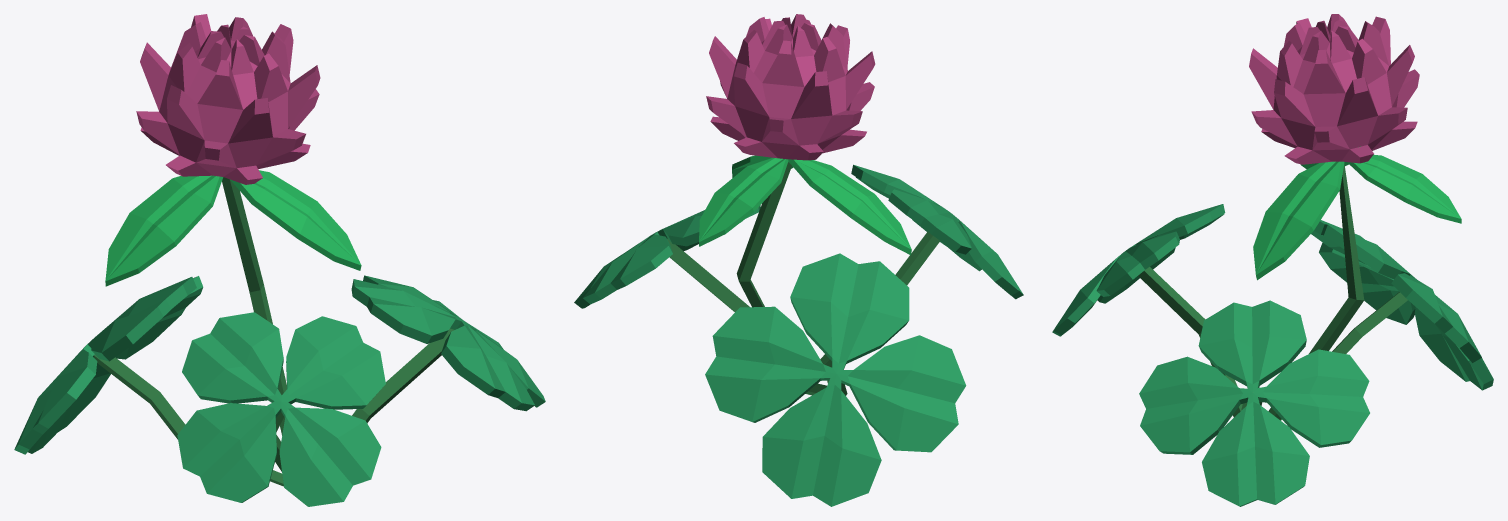
The model's file is 3D_Model_Clover_LP_v3.fbx.
The picture shows the model from 3 angles, left to right: view 1: azimuth 30°, elevation 25°; view 2: azimuth 150°, elevation 25°; view 3: azimuth 270°, elevation 25°; orthographic projection. The views are drawn at different scales.
Parts seen in each view (by area): view 1: clover_03; view 2: clover_03; view 3: clover_03.
Part boxes in pixels (x1,y1,x2,y2): clover_03: (14, 14, 545, 506); clover_03: (574, 14, 1023, 506); clover_03: (1052, 14, 1493, 506).
Size of the model in its own units: 208 by 192 by 187.
